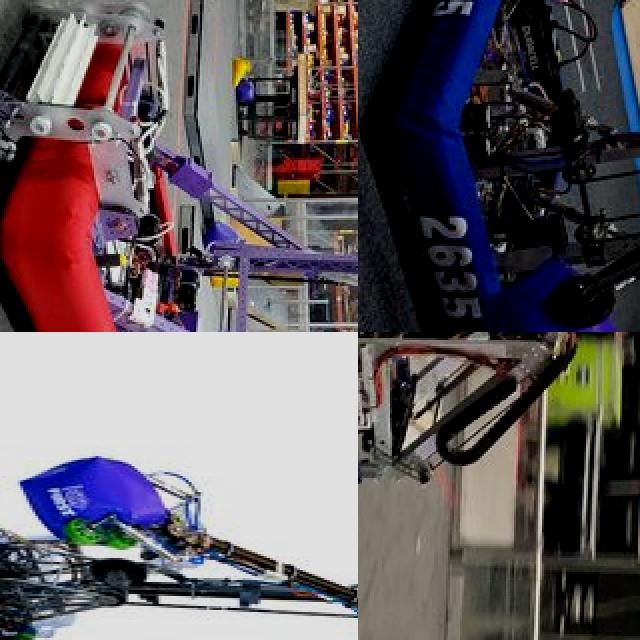FRC-Robots: (0, 0, 358, 332), (358, 0, 640, 332), (0, 392, 358, 640), (358, 332, 582, 584)
